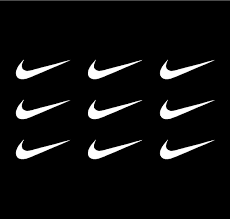nike: (8, 92, 79, 130), (83, 94, 149, 134), (15, 45, 76, 86), (84, 41, 145, 81), (156, 133, 225, 165), (13, 135, 78, 168), (156, 93, 224, 124), (155, 52, 215, 87), (84, 137, 147, 170)
